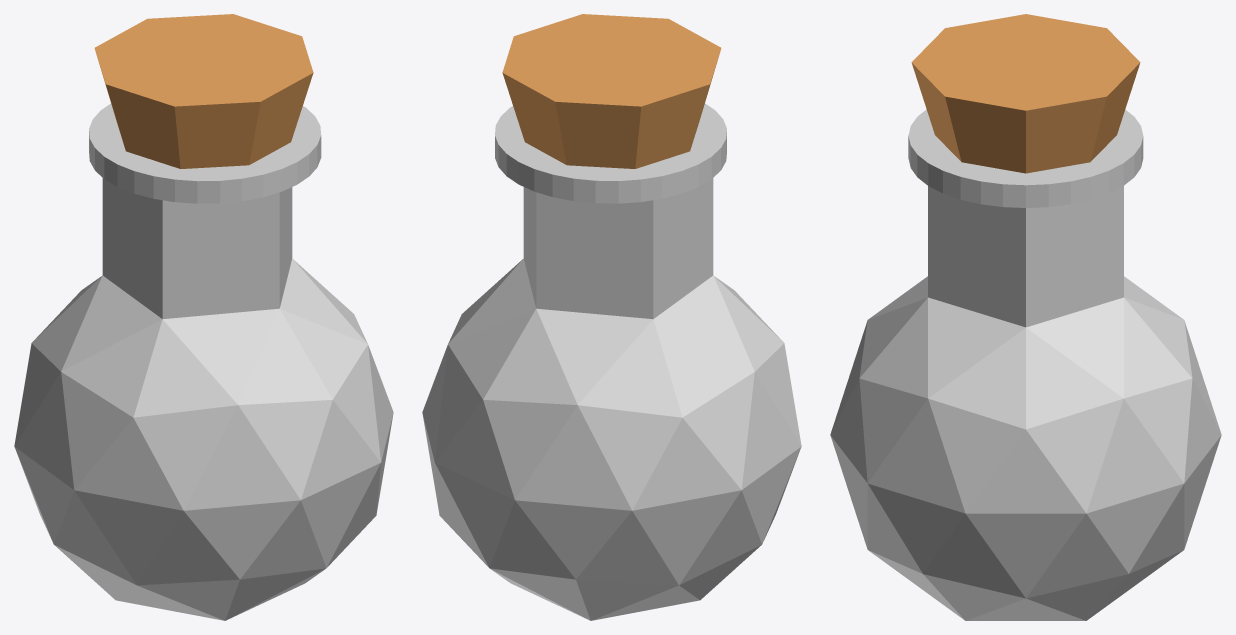
Rendered from pocao.fbx.
3 renders of one model, left to right at view 1: azimuth 30°, elevation 25°; view 2: azimuth 150°, elevation 25°; view 3: azimuth 270°, elevation 25°, orthographic.
Visible parts, largest first — view 1: Icosphere, Cone, Cylinder; view 2: Icosphere, Cone, Cylinder; view 3: Icosphere, Cone, Cylinder.
Part boxes in pixels (box(x1,y1,x2,y2)): Icosphere: box(14, 178, 393, 620); Cone: box(94, 14, 313, 168); Cylinder: box(89, 103, 321, 203); Icosphere: box(422, 178, 801, 620); Cone: box(502, 14, 721, 168); Cylinder: box(495, 103, 726, 203); Icosphere: box(830, 186, 1221, 620); Cone: box(911, 14, 1140, 173); Cylinder: box(908, 109, 1143, 207).
Size of the model in its own units: 190 by 297 by 200.
